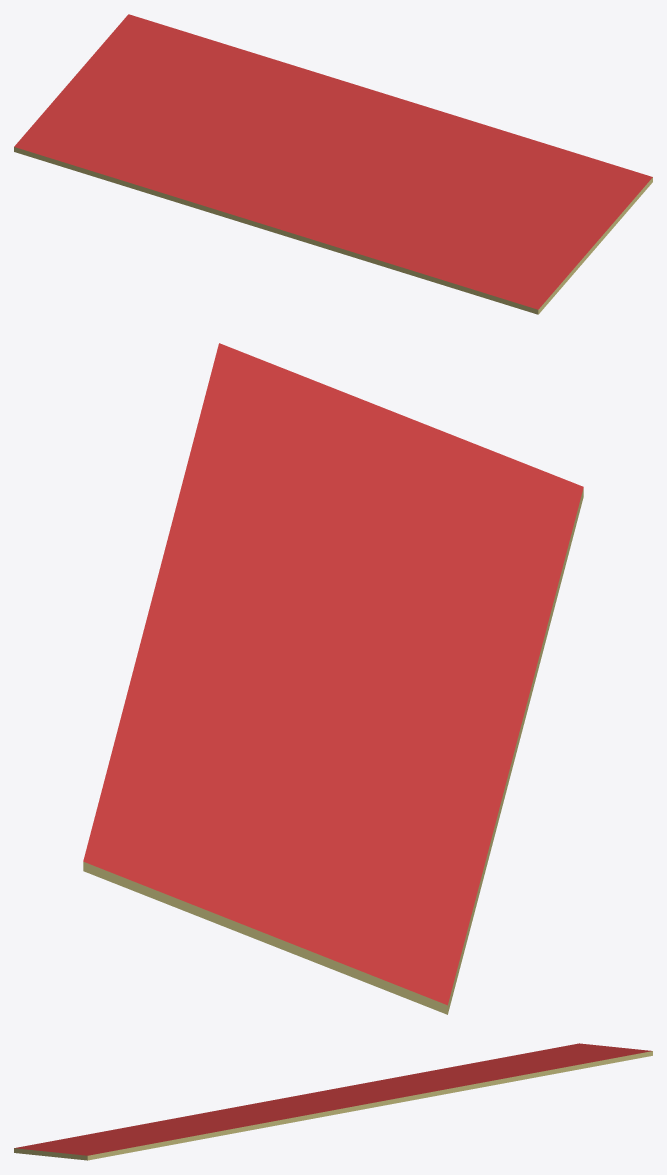
3 views of the same model, one above another, from view 1: azimuth 30°, elevation 25°; view 2: azimuth 150°, elevation 25°; view 3: azimuth 270°, elevation 25° (orthographic). The views are drawn at different scales.
Bounding box in the file's own units: 7.89 × 12.12 × 1.43.
